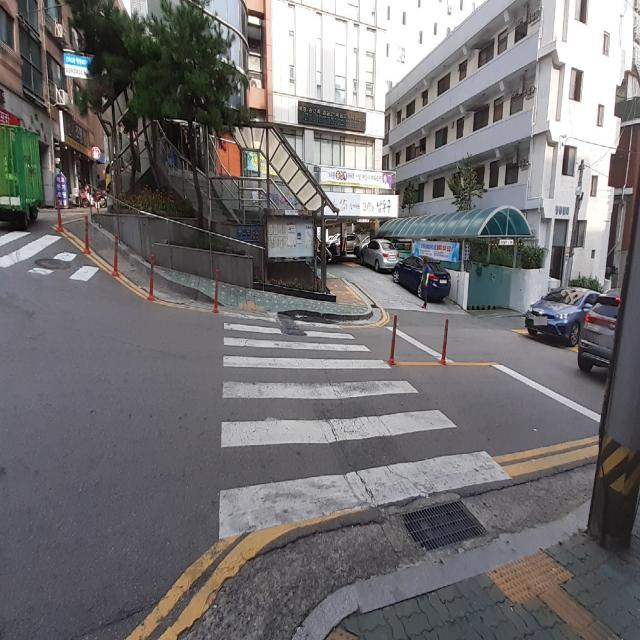횡단보도: (216, 310, 514, 544), (0, 233, 95, 282)
